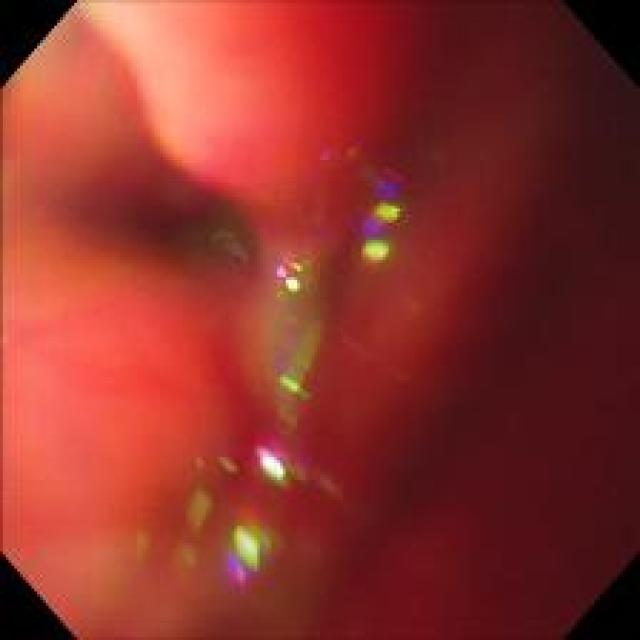blur: (16, 15, 619, 614)
color misalignment: (18, 15, 628, 628), (259, 250, 329, 434), (230, 445, 282, 581), (362, 155, 411, 276), (178, 462, 218, 572), (210, 228, 249, 270)
